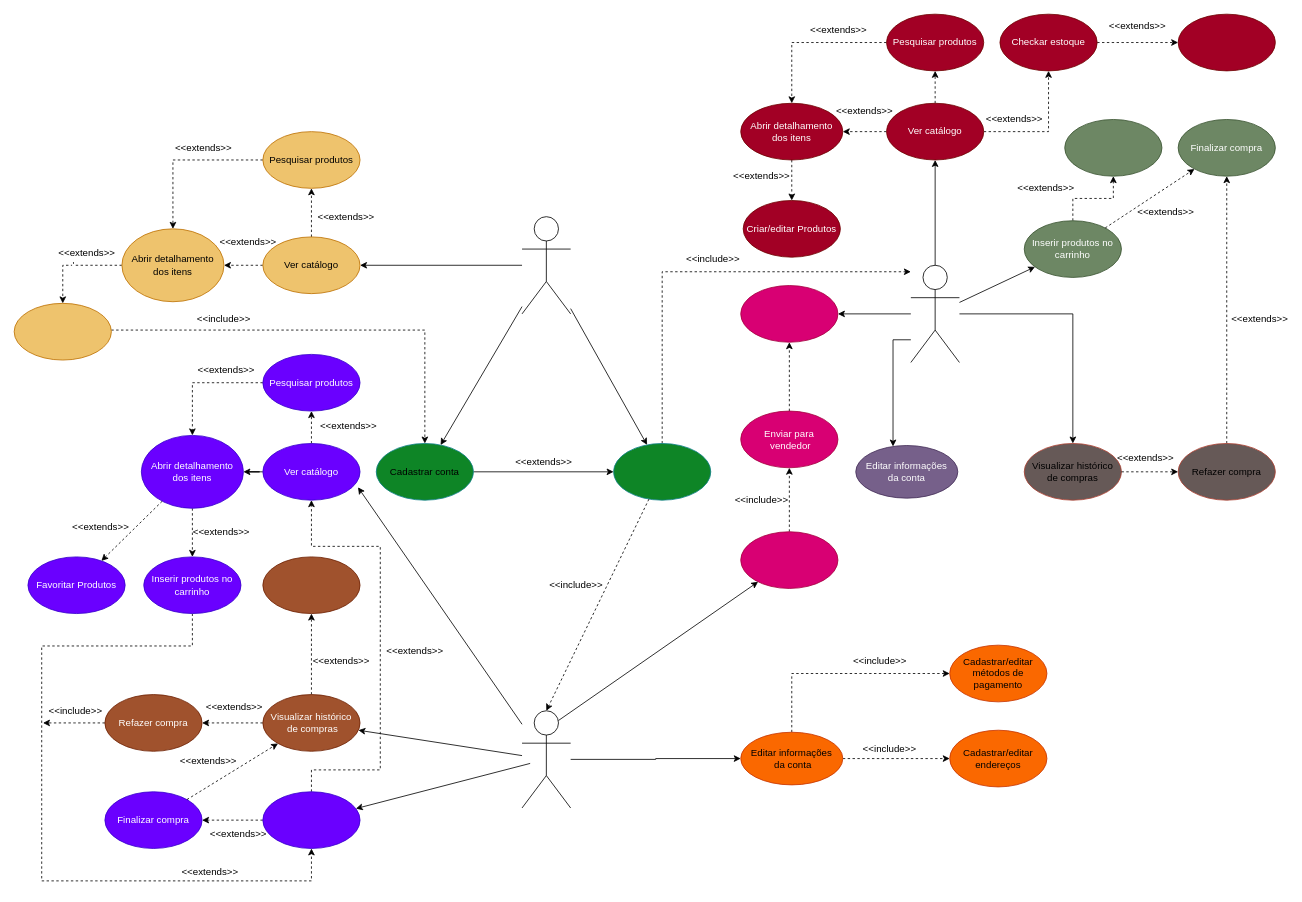
Image size: 1302x902. Some labels were removed from this diagram. Each missing label, with the centre of its shape:
Comprador: pixel 546 759
Criar boletim de problema: pixel 789 559
Editar Estoque: pixel 1226 42
Excluir compra: pixel 1113 147
Fazer Devoluções: pixel 311 585
Logar-se: pixel 662 471
Receber problemas de usuários: pixel 789 313
Tentativa de compra: pixel 62 331
Vendedor: pixel 934 313
Ver carrinho: pixel 311 819
Visitante: pixel 546 265
